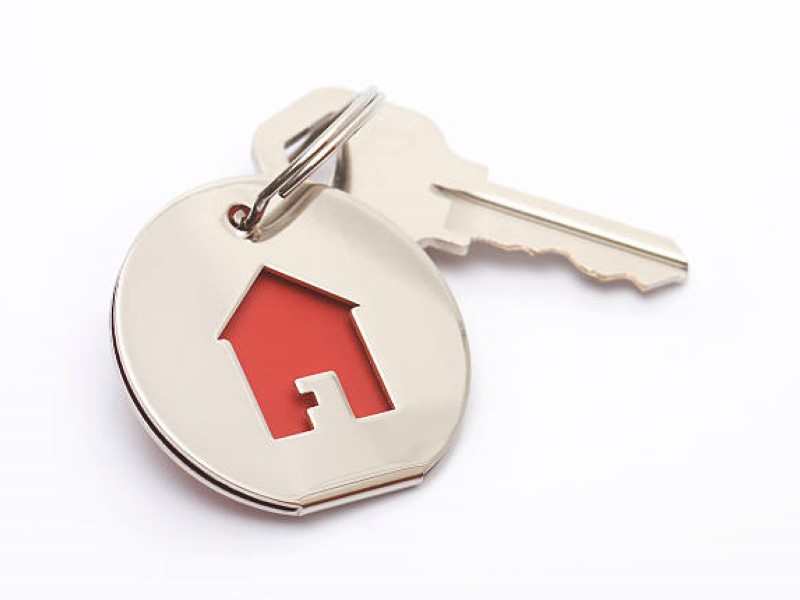key: (247, 78, 696, 300)
